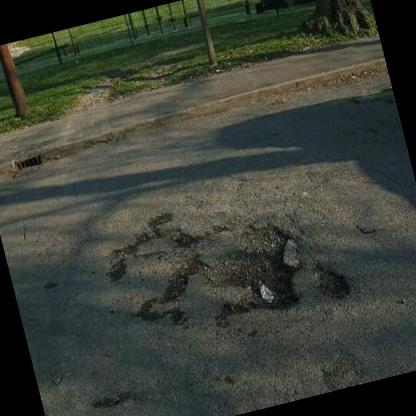pothole: (196, 210, 312, 328), (152, 252, 209, 303), (308, 258, 354, 306)
